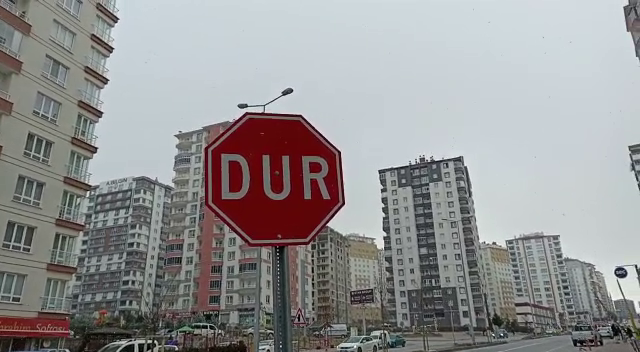stop: (202, 110, 347, 249)
